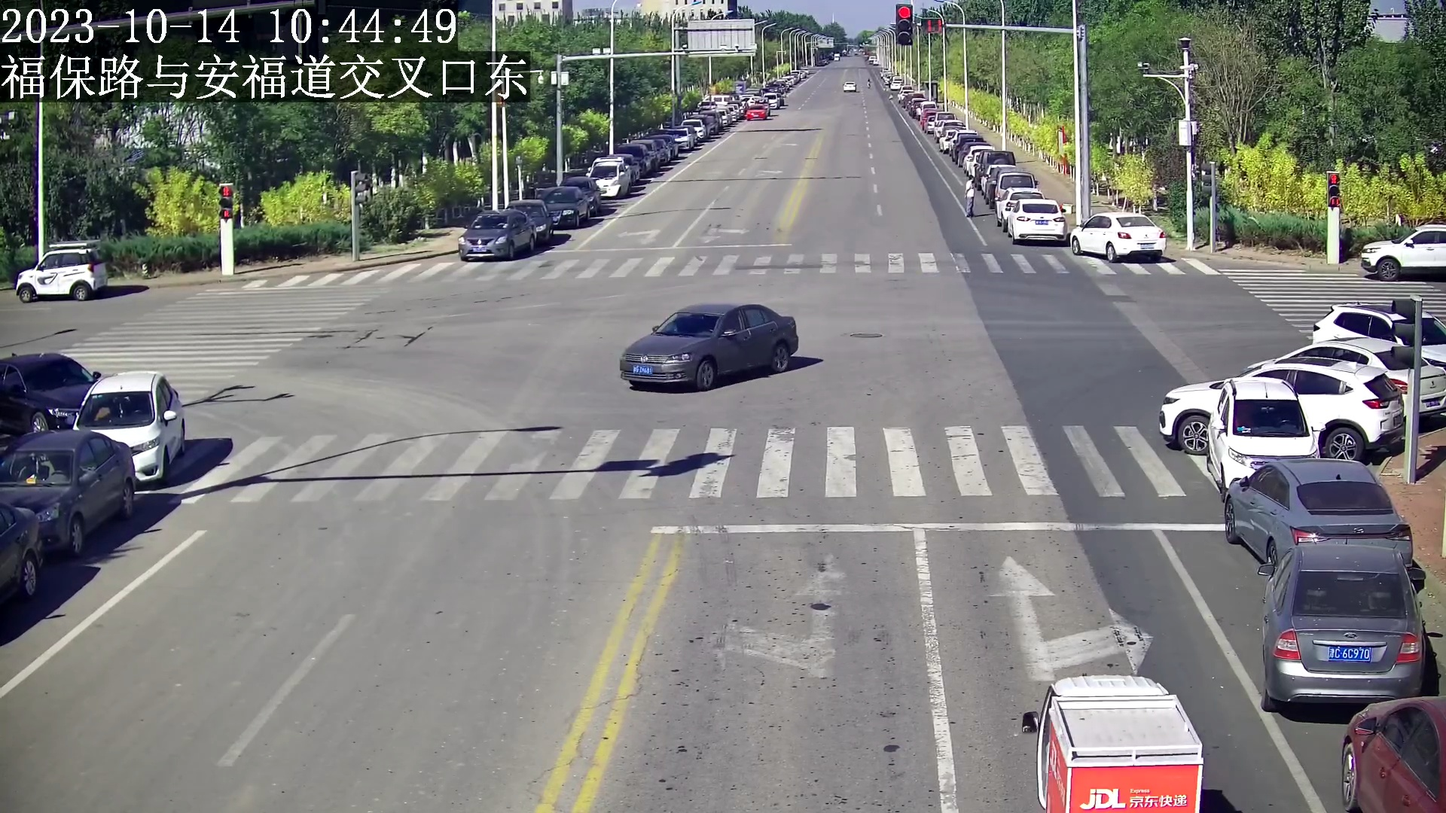vehicle: (1258, 541, 1429, 708), (1013, 668, 1202, 811), (1157, 356, 1405, 454), (1222, 456, 1414, 565), (2, 432, 139, 553), (615, 299, 798, 379), (1332, 693, 1444, 811), (1210, 376, 1316, 491), (76, 368, 185, 478), (2, 348, 93, 432), (11, 237, 105, 300), (1065, 203, 1165, 261), (1361, 218, 1446, 281), (457, 206, 538, 263), (1005, 197, 1063, 241)
